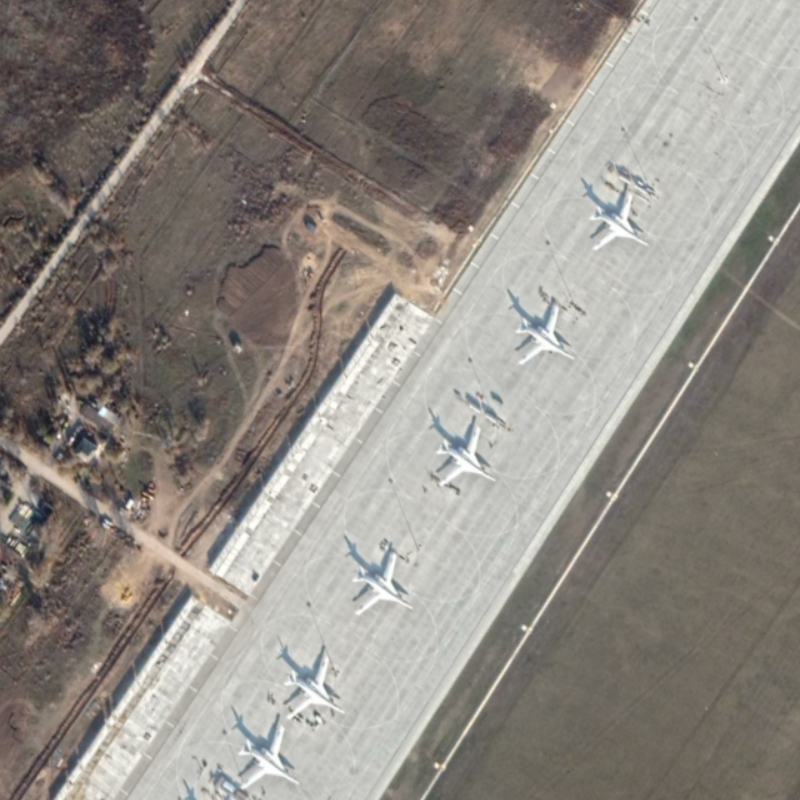A6: (237, 720, 303, 795), (281, 652, 349, 722), (350, 550, 416, 621), (433, 422, 499, 492), (511, 299, 577, 368), (585, 186, 650, 253)
